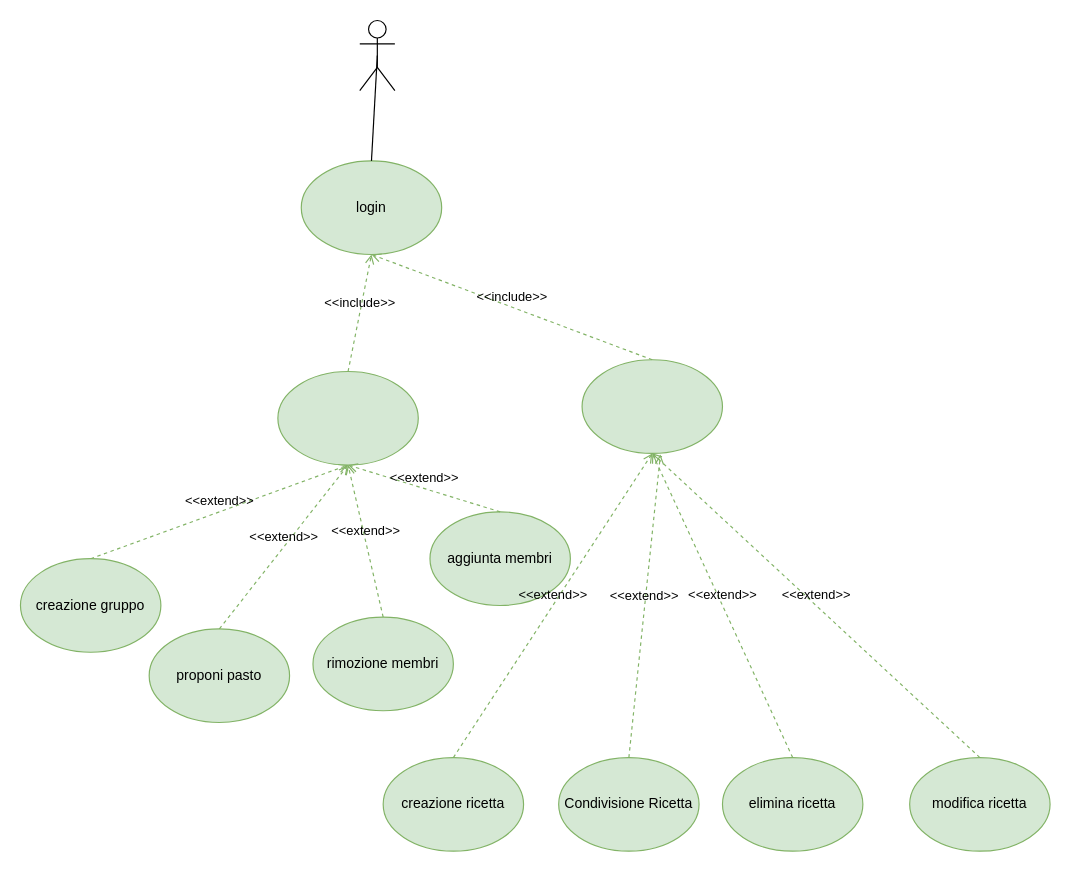
Some shapes in this 1071 by 872 pixel diagram are drawn without their labels. Here are the shapes that lost their labels. From the top down, the centre of each, then its label:
the point at 377,55: Utente
the point at 347,417: amministrazione gruppo
the point at 651,406: amministrazione ricette
